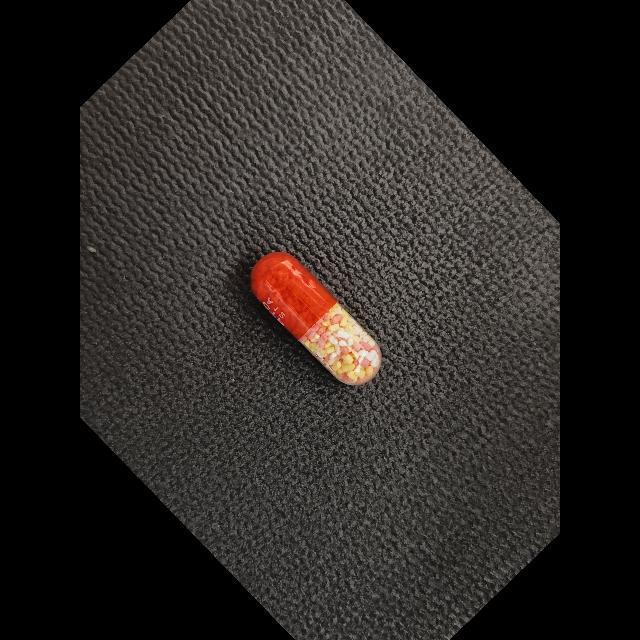Intact Capsule: (250, 252, 382, 385)
